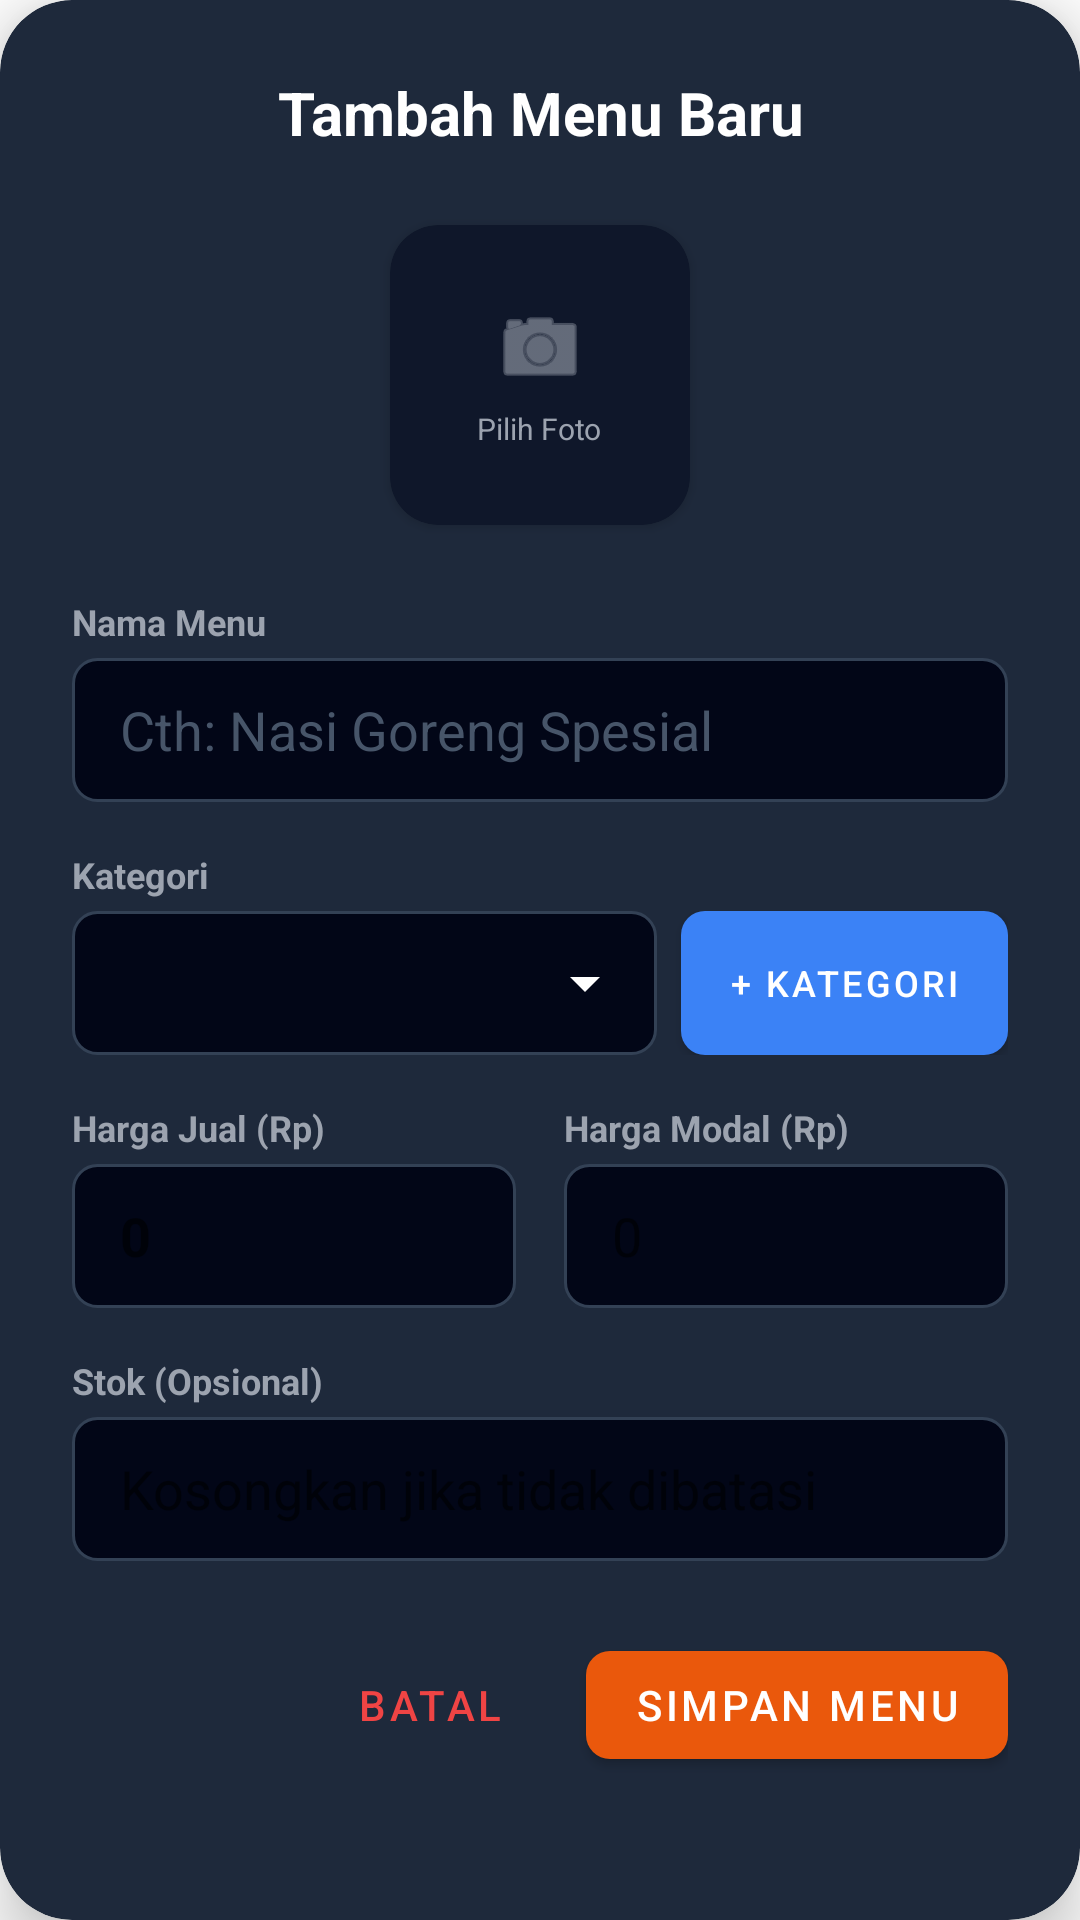

Named icons in this screenshot (1080px x 1920px) and their centers, (x,y):
camera: (540,346)
